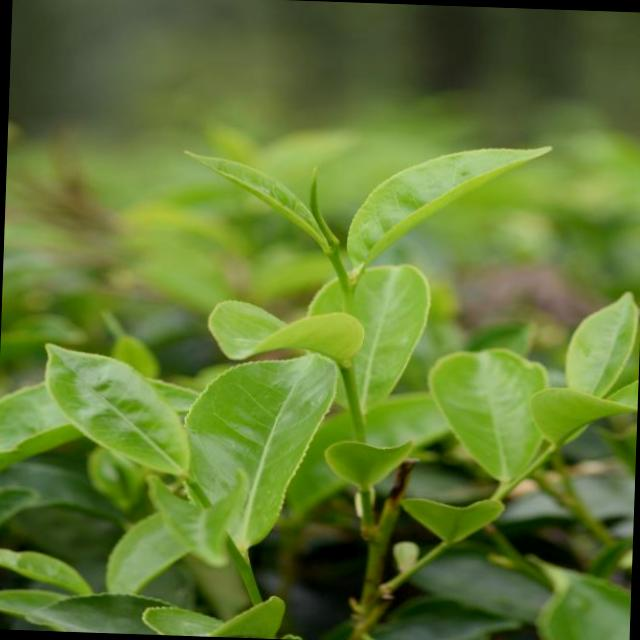Stem: (341, 289, 352, 310)
